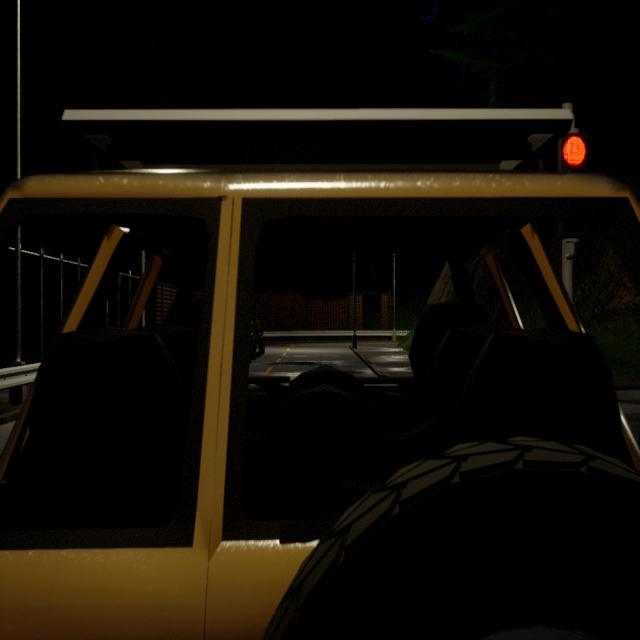Vehicle: (0, 108, 640, 640), (252, 318, 266, 362)
traffic_light: (560, 106, 586, 172)
